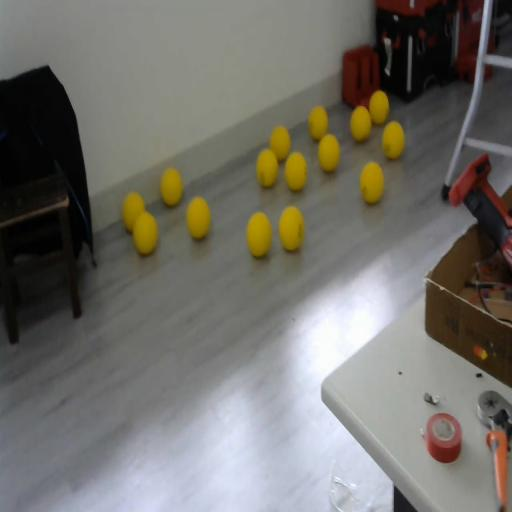FUEL: (245, 210, 273, 259), (278, 206, 304, 252), (359, 161, 384, 205), (186, 195, 210, 240), (284, 150, 308, 192), (317, 132, 341, 174), (121, 190, 145, 232), (381, 119, 405, 160), (256, 148, 279, 188), (160, 166, 182, 207), (269, 124, 291, 163), (368, 88, 390, 126), (350, 104, 372, 142), (308, 106, 328, 141)
